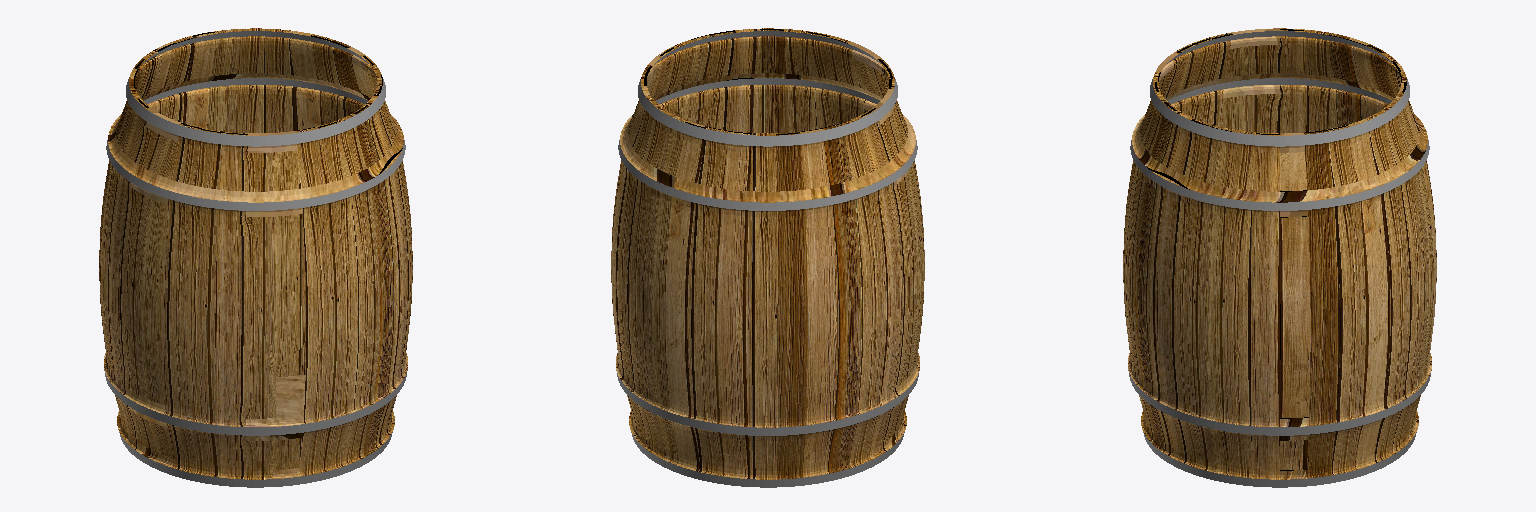
3 renders of one model, left to right at view 1: azimuth 30°, elevation 25°; view 2: azimuth 150°, elevation 25°; view 3: azimuth 270°, elevation 25°, orthographic.
Parts seen in each view (by area): view 1: Cylinder; view 2: Cylinder; view 3: Cylinder.
Part boxes in pixels (bbox=[...]): Cylinder: bbox=[99, 28, 412, 487]; Cylinder: bbox=[611, 28, 924, 487]; Cylinder: bbox=[1123, 28, 1436, 487].
Size of the model in its own units: 2.1 by 2.57 by 2.1.
2 materials, 1 textured.